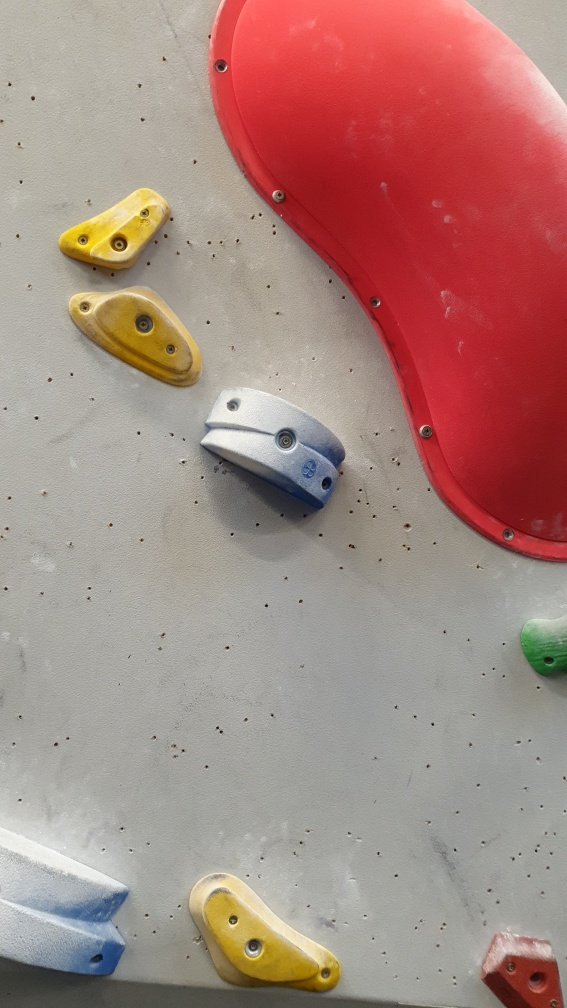Crimp: (193, 874, 323, 985), (83, 196, 175, 273)
Jug: (513, 606, 567, 684)
Pinch: (1, 817, 138, 990), (198, 374, 351, 509)
